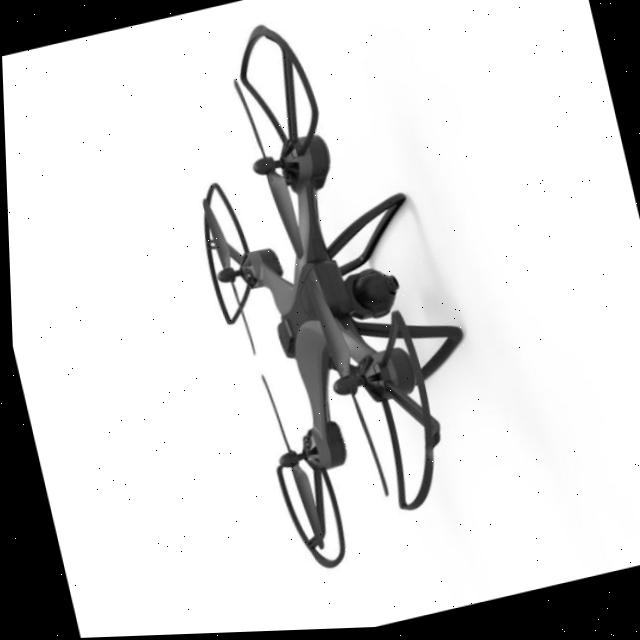drones: (149, 0, 513, 592)
